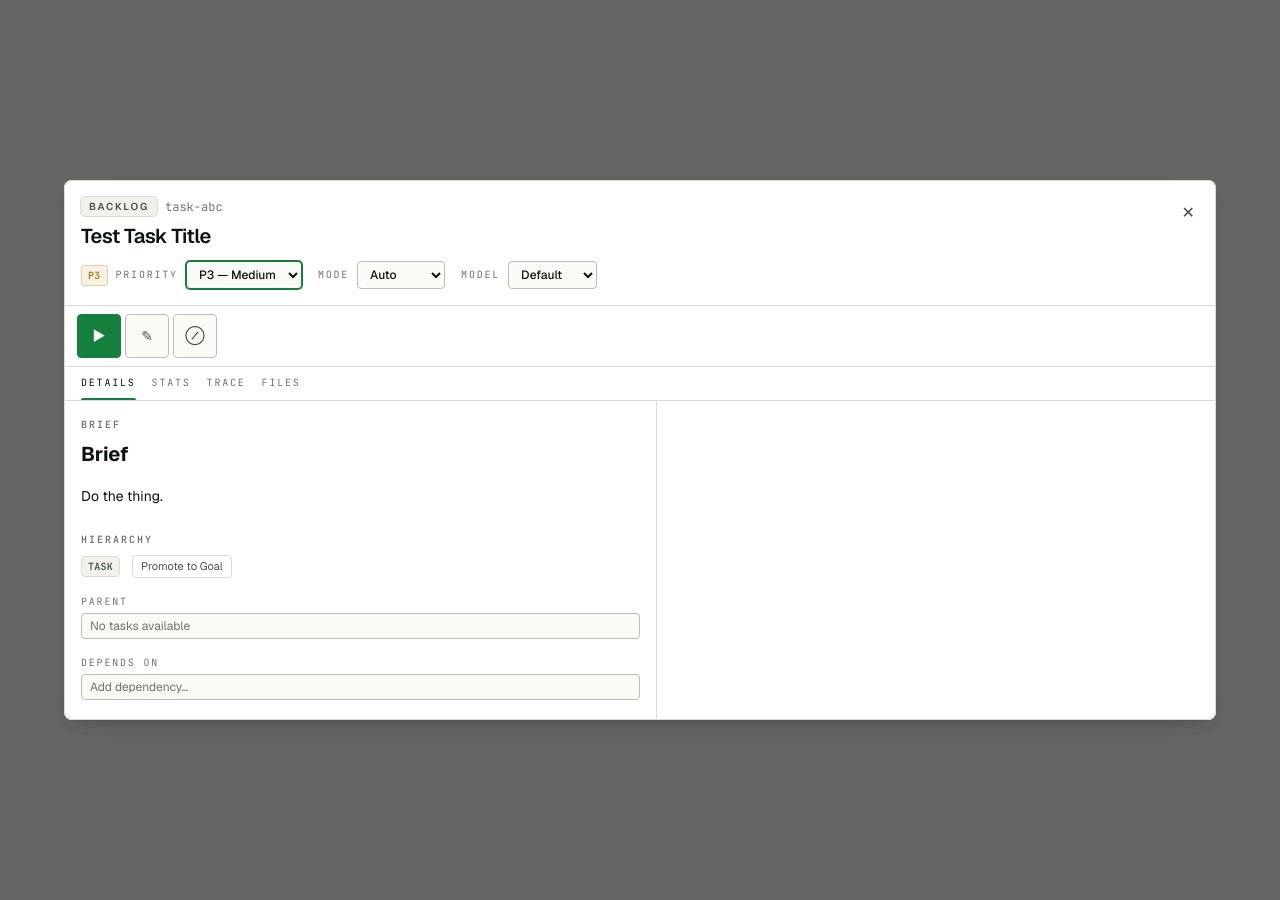
Detail — tab switching › switches to Stats tab and shows StatsPanel
Step 1. Click the button "stats" → (171, 384), box [152,367,191,400]
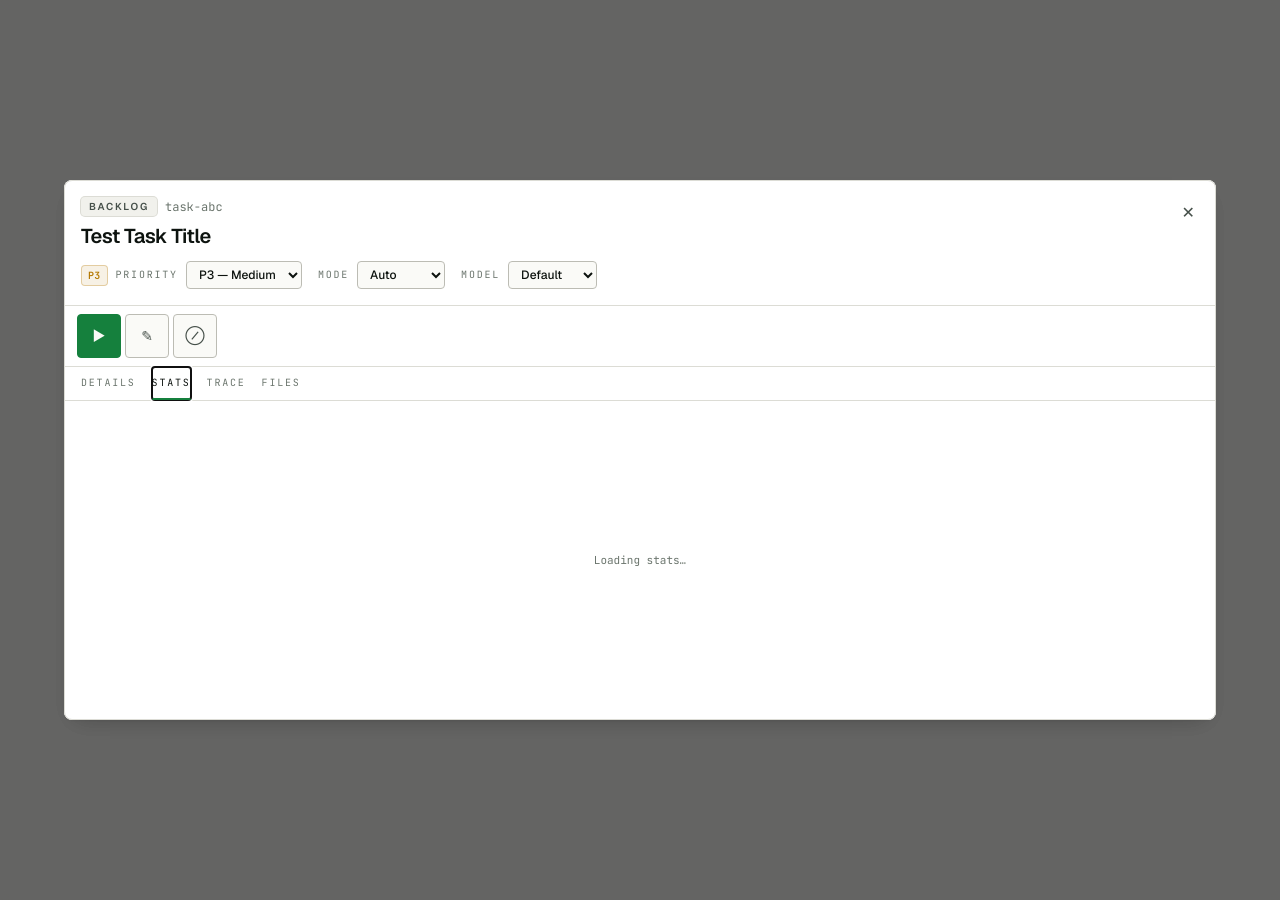
Result: the text "Loading stats…" is shown at [594,552,686,568]
